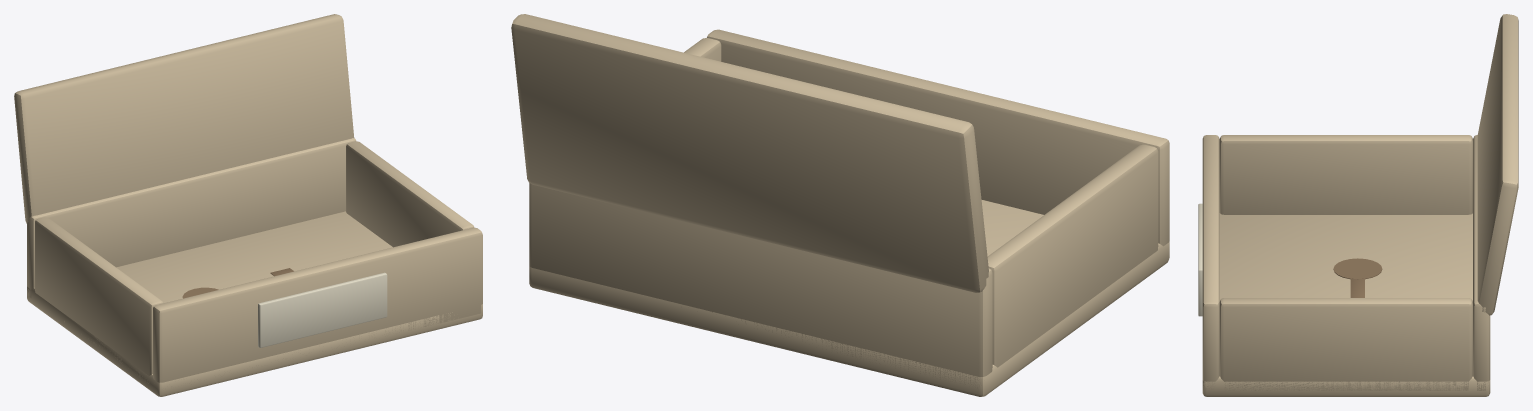
File: CTCC_PROP_UnnamedBoxC12.fbx
3 views of the same model, side by side, from view 1: azimuth 30°, elevation 25°; view 2: azimuth 150°, elevation 25°; view 3: azimuth 270°, elevation 25° (orthographic). The views are drawn at different scales.
Parts seen in each view (by area): view 1: CTCC_PROP_UnnamedBoxC12; view 2: CTCC_PROP_UnnamedBoxC12; view 3: CTCC_PROP_UnnamedBoxC12.
Boxes of the visible parts, left/top/right/bottom form: CTCC_PROP_UnnamedBoxC12: left=14, top=14, right=482, bottom=396; CTCC_PROP_UnnamedBoxC12: left=511, top=14, right=1169, bottom=396; CTCC_PROP_UnnamedBoxC12: left=1198, top=14, right=1518, bottom=396.
Size of the model in its own units: 0.28 by 0.1661 by 0.2228.
